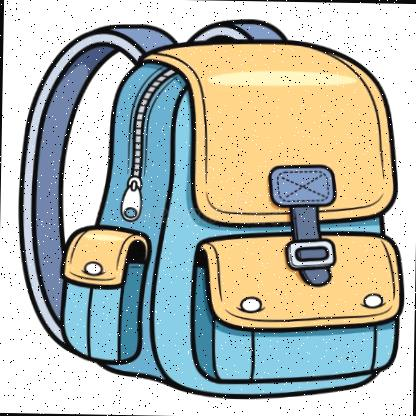bag: (11, 7, 406, 408)
